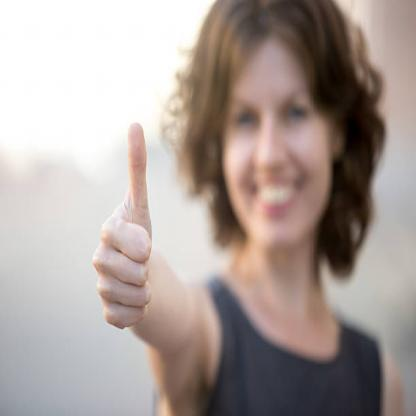thumb_up: (92, 118, 163, 332)
